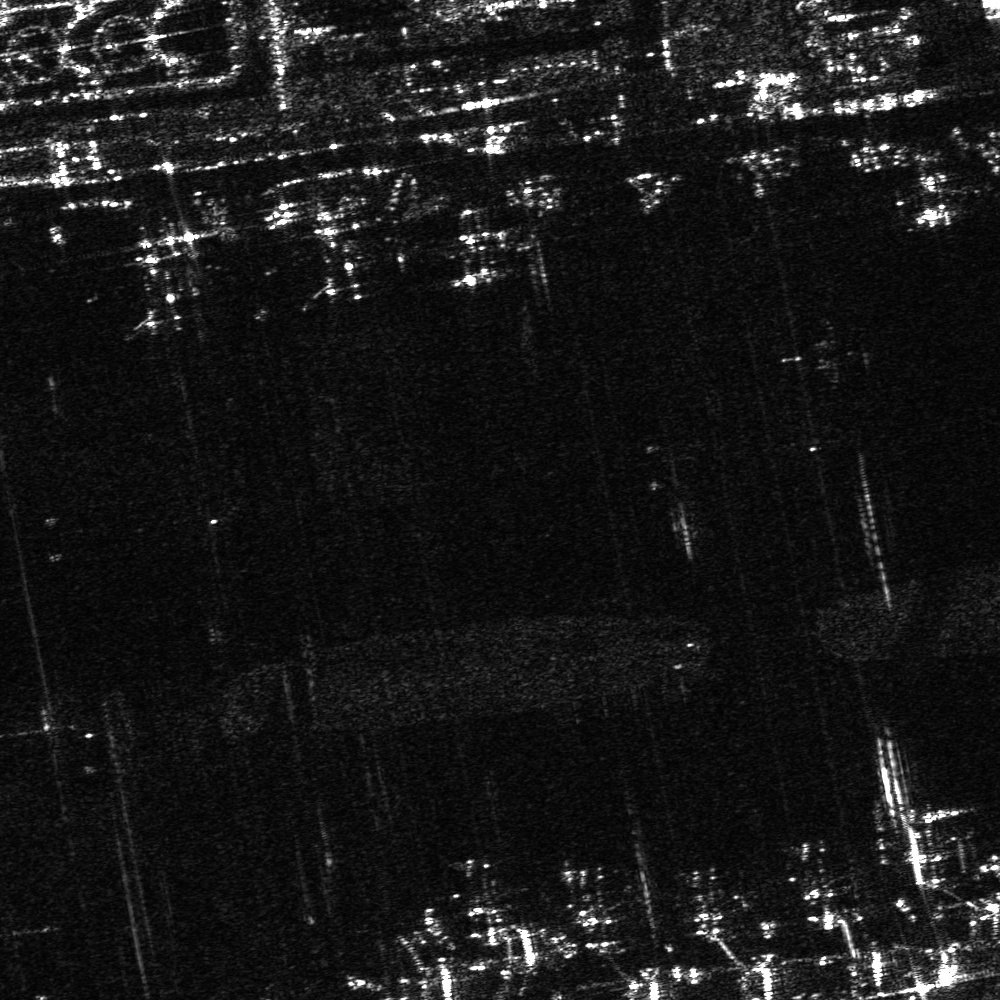A220: (445, 857, 533, 945), (556, 864, 638, 955), (672, 861, 753, 945), (781, 839, 851, 927)
Boeing737: (889, 165, 976, 223)
other: (94, 233, 240, 337), (267, 207, 407, 311), (439, 201, 520, 287)
